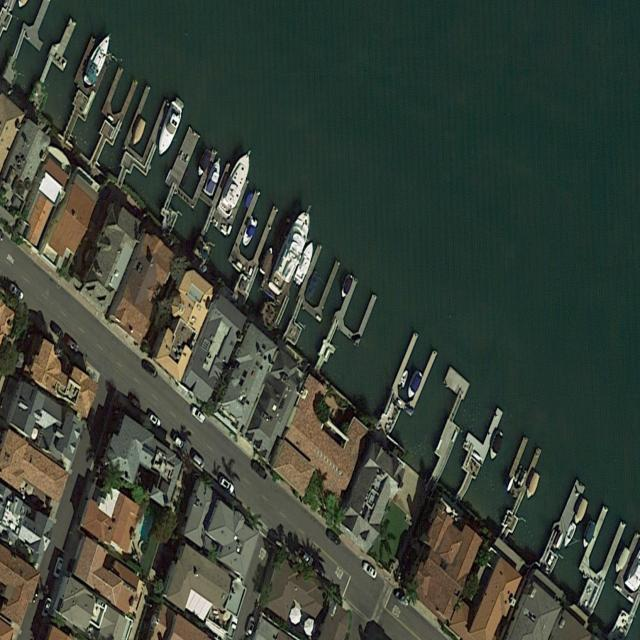ship: (267, 201, 318, 298), (217, 145, 256, 219), (154, 98, 184, 161), (83, 30, 114, 89), (293, 239, 317, 288), (203, 156, 225, 198), (405, 367, 423, 401), (303, 270, 321, 304), (241, 215, 258, 248), (130, 117, 147, 149), (488, 429, 504, 463), (196, 147, 212, 180), (259, 246, 275, 278), (614, 545, 631, 575), (525, 471, 541, 502), (562, 521, 577, 551), (581, 520, 596, 550), (574, 497, 589, 527), (339, 272, 354, 301), (398, 368, 410, 390)
small-vehicle: (295, 544, 315, 569), (251, 459, 269, 484), (393, 588, 411, 611), (217, 474, 235, 497), (141, 359, 159, 380), (8, 282, 25, 304), (171, 432, 188, 454), (146, 410, 163, 431), (362, 560, 378, 582), (190, 405, 206, 425), (326, 529, 342, 548), (65, 335, 80, 355), (191, 451, 205, 472), (227, 616, 239, 640), (246, 615, 258, 639), (41, 596, 53, 618), (126, 393, 141, 410), (54, 556, 65, 579), (49, 321, 63, 337)
